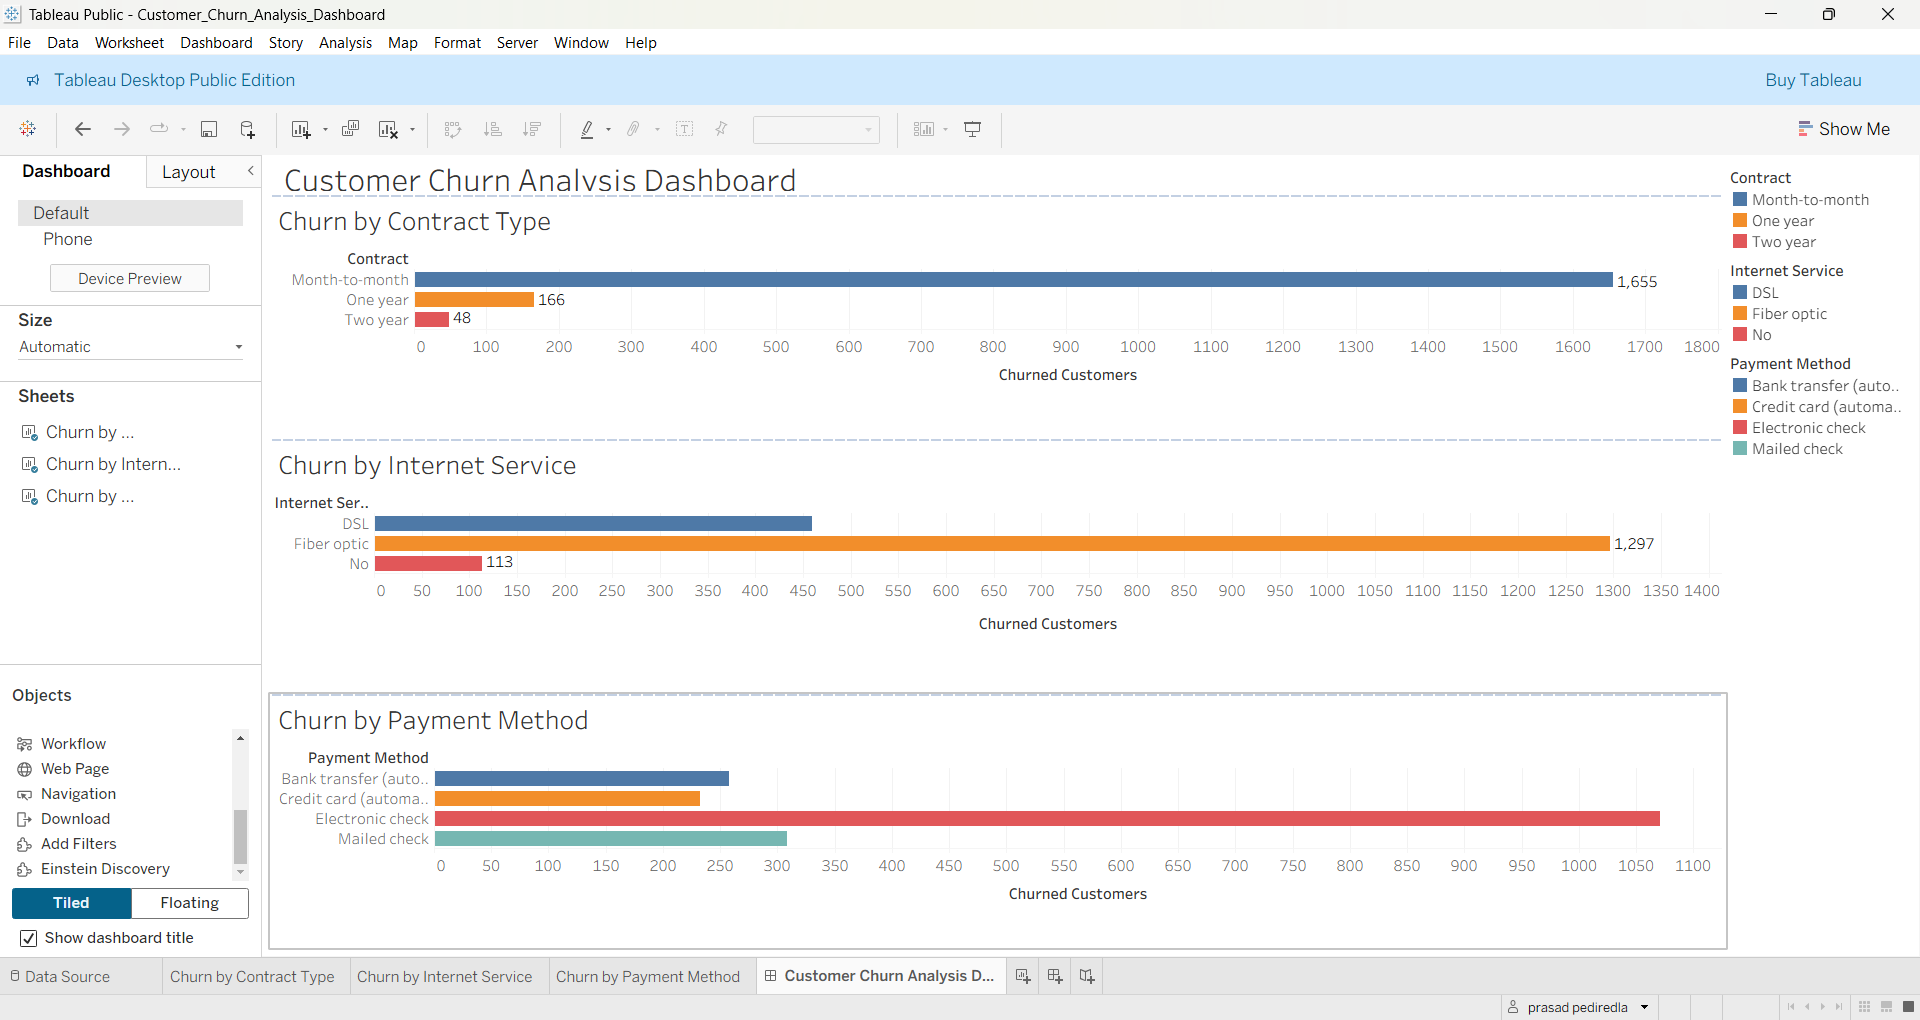

The dashboard page shown, as its layout file describes it:
{"tool":"tableau","page":{"name":" Customer Churn Analysis Dashboard","canvas":[1000,1000],"units":"permille","ordinal":0},"visuals":[{"type":"title","box":[4.8,10,878.7,40]},{"type":"legend","title":"Churn by Contract Type","param":"[federated.1vxau0907n8wop13iq3we1aakd1w].[none:Contract:nk]","box":[883.5,10,111.7,116.1]},{"type":"worksheet","title":"Churn by Contract Type","mark":"Automatic","rows":["Contract"],"cols":["Churned_Customers"],"box":[4.8,50,878.7,304.6]},{"type":"legend","title":"Churn by Internet Service","param":"[federated.08p85dk1795qns142dqtv0l4xlbb].[none:Internet Service:nk]","box":[883.5,126.1,111.7,116.1]},{"type":"legend","title":"Churn by Payment Method","param":"[federated.145vjjx1h22vjh1e0r2wx1t81r9m].[none:Payment Method:nk]","box":[883.5,242.2,111.7,142.3]},{"type":"worksheet","title":"Churn by Internet Service","mark":"Automatic","rows":["Internet Service"],"cols":["Churned_Customers"],"box":[4.8,354.6,878.7,317.7]},{"type":"worksheet","title":"Churn by Payment Method","mark":"Automatic","rows":["Payment Method"],"cols":["Churned_Customers"],"box":[4.8,672.3,878.7,317.7]}]}

Visuals, with their boxes on the dashboard's canvas, which has no fixed pixel size, in thousandths of its width and height (x1, y1, x2, y2). These are canvas units, not pixel positions in the 1920x1020 screenshot, which may show the page scaled, cropped or inside an application window:
title: left=5, top=10, right=884, bottom=50
"Churn by Contract Type" legend: left=884, top=10, right=995, bottom=126
"Churn by Contract Type" worksheet: left=5, top=50, right=884, bottom=355
"Churn by Internet Service" legend: left=884, top=126, right=995, bottom=242
"Churn by Payment Method" legend: left=884, top=242, right=995, bottom=384
"Churn by Internet Service" worksheet: left=5, top=355, right=884, bottom=672
"Churn by Payment Method" worksheet: left=5, top=672, right=884, bottom=990
